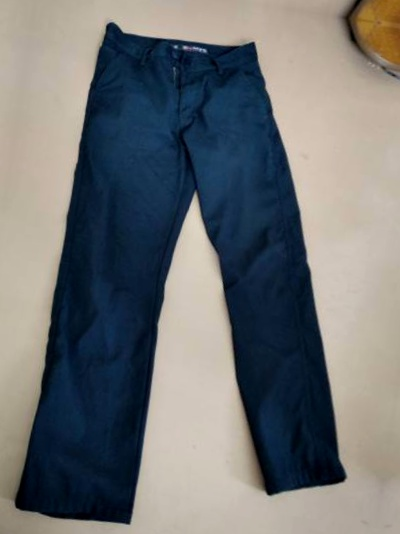Pants: (0, 0, 400, 534), (0, 0, 6, 492), (73, 0, 400, 8)
